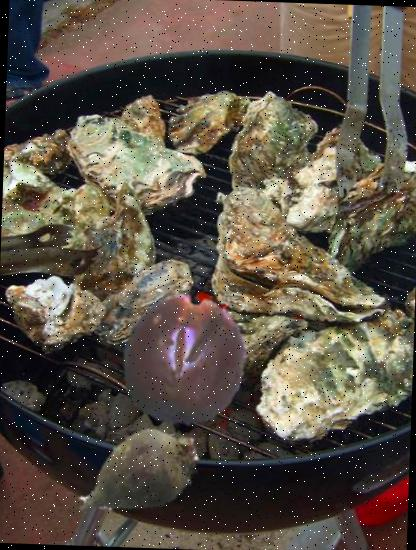Beetroot: (66, 404, 210, 548)
Passion: (116, 289, 256, 429)
